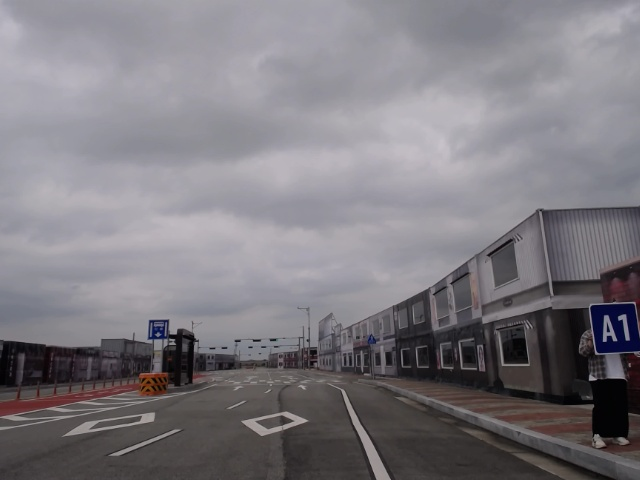delivery_a1: (589, 303, 639, 354)
